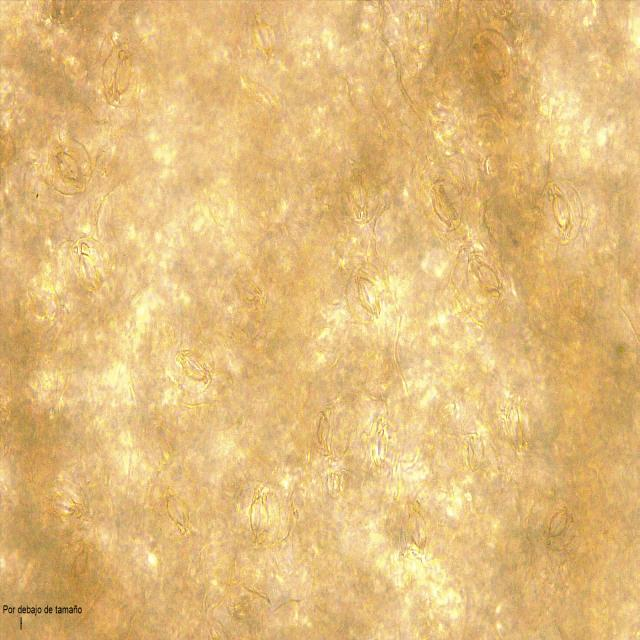Stomata: (44, 137, 94, 196), (67, 235, 111, 302), (170, 334, 216, 398), (395, 496, 439, 561), (540, 179, 583, 245), (38, 477, 88, 533), (101, 42, 142, 109), (345, 262, 388, 325), (469, 28, 513, 88), (239, 484, 280, 548), (339, 161, 380, 224), (18, 282, 62, 338), (422, 177, 464, 234), (466, 251, 508, 308), (536, 502, 578, 552), (160, 484, 196, 541), (364, 416, 398, 474), (307, 404, 341, 457), (229, 268, 267, 311), (456, 432, 485, 472)
